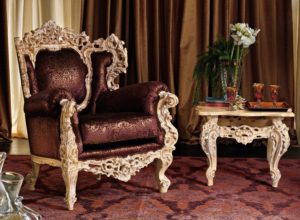Carving Chair: (16, 26, 179, 196)
Carving Table: (194, 104, 289, 191)
